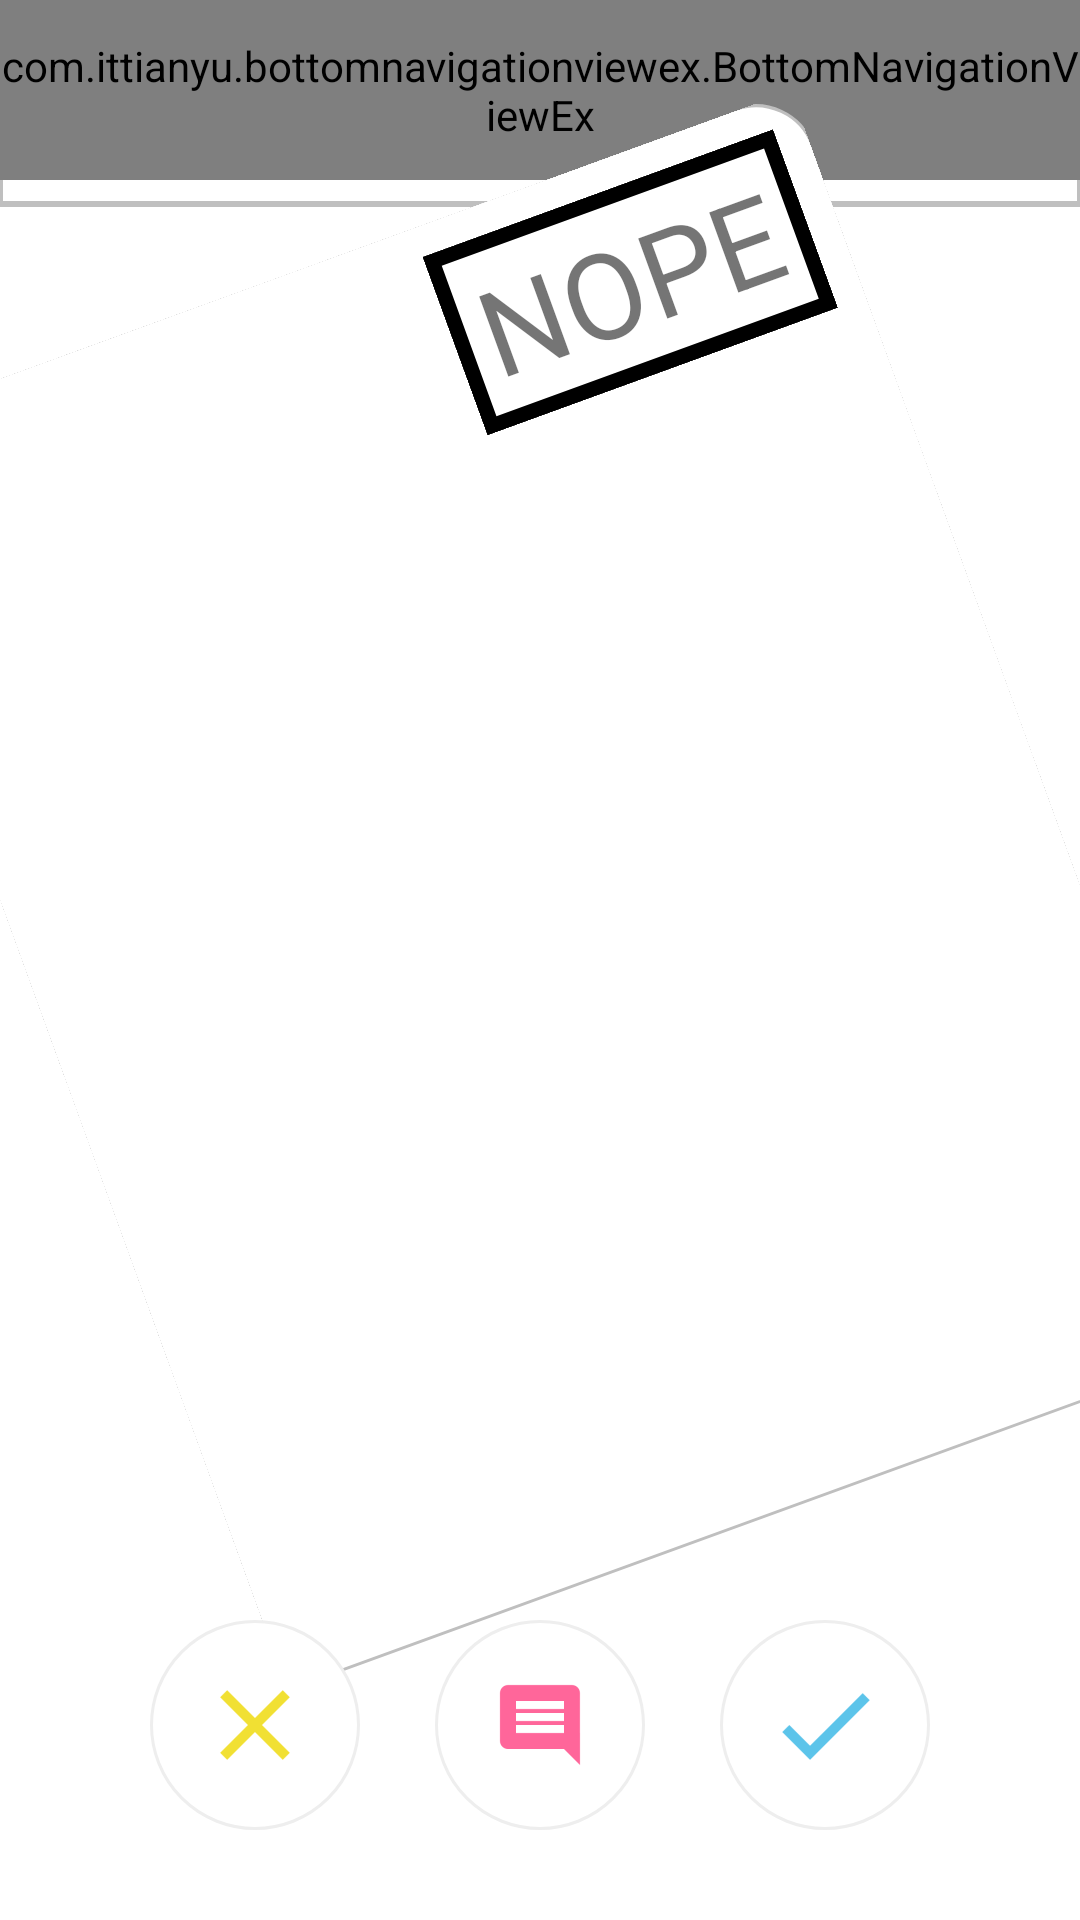

Point at icon controls on the screen. Image size 1080x1920, points as [x,y].
comment: [540,1725]
dislike: [255,1725]
like: [826,1726]
